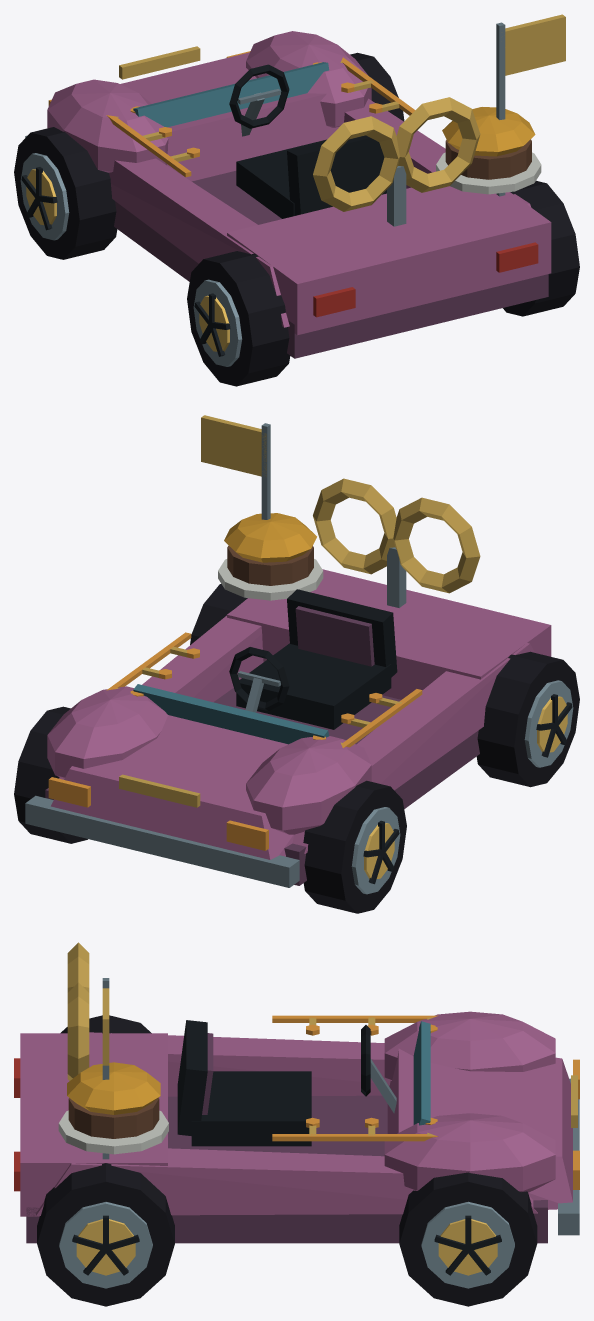
Rendered from kart.glb.
3 renders of one model, top to bottom at view 1: azimuth 30°, elevation 25°; view 2: azimuth 150°, elevation 25°; view 3: azimuth 270°, elevation 25°, orthographic. The views are drawn at different scales.
Parts seen in each view (by area): view 1: identity-toy-car-toy-rounded-body-and-wind-up-key, wheel-rear-left, wheel-front-left, identity-toy-car-driver-cockpit, identity-toy-car-motif-food, wheel-rear-right, identity-toy-car-motif-flag, identity-toy-car-motif-circuit, wheel-front-right; view 2: identity-toy-car-toy-rounded-body-and-wind-up-key, identity-toy-car-driver-cockpit, wheel-rear-left, wheel-front-left, identity-toy-car-motif-food, identity-toy-car-motif-flag, wheel-front-right, identity-toy-car-motif-circuit, wheel-rear-right; view 3: identity-toy-car-toy-rounded-body-and-wind-up-key, wheel-rear-right, wheel-front-right, identity-toy-car-driver-cockpit, identity-toy-car-motif-food, identity-toy-car-motif-circuit, identity-toy-car-motif-flag, wheel-rear-left.
Boxes of the visible parts, <box> form: identity-toy-car-toy-rounded-body-and-wind-up-key: <box>25,31,551,358</box>; wheel-rear-left: <box>187,251,290,386</box>; wheel-front-left: <box>14,127,117,259</box>; identity-toy-car-driver-cockpit: <box>229,64,386,218</box>; identity-toy-car-motif-food: <box>436,107,541,194</box>; wheel-rear-right: <box>503,180,579,316</box>; identity-toy-car-motif-flag: <box>496,14,565,196</box>; identity-toy-car-motif-circuit: <box>106,57,415,177</box>; wheel-front-right: <box>350,52,404,121</box>; identity-toy-car-toy-rounded-body-and-wind-up-key: <box>25,478,551,887</box>; identity-toy-car-driver-cockpit: <box>229,589,397,729</box>; wheel-rear-left: <box>476,651,579,787</box>; wheel-front-left: <box>303,780,406,913</box>; identity-toy-car-motif-food: <box>218,513,323,600</box>; identity-toy-car-motif-flag: <box>201,415,270,519</box>; wheel-front-right: <box>14,706,87,843</box>; identity-toy-car-motif-circuit: <box>106,632,422,747</box>; wheel-rear-right: <box>190,584,247,644</box>; identity-toy-car-toy-rounded-body-and-wind-up-key: <box>14,942,579,1243</box>; wheel-rear-right: <box>37,1163,174,1306</box>; wheel-front-right: <box>399,1172,537,1306</box>; identity-toy-car-driver-cockpit: <box>177,1020,396,1146</box>; identity-toy-car-motif-food: <box>58,1062,168,1154</box>; identity-toy-car-motif-circuit: <box>272,1015,438,1141</box>; identity-toy-car-motif-flag: <box>102,978,109,1159</box>; wheel-rear-left: <box>60,1015,151,1033</box>.
Bounding box in the file's own units: 2.17 × 1.7 × 2.88.
